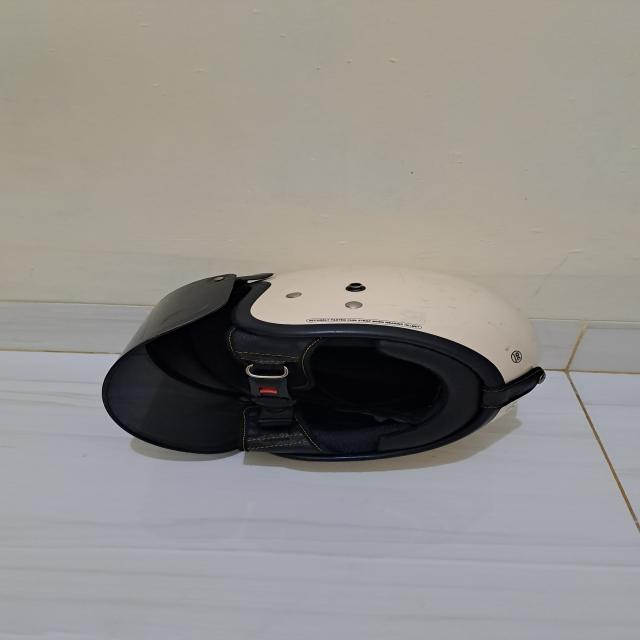Helm: (103, 253, 557, 469)
